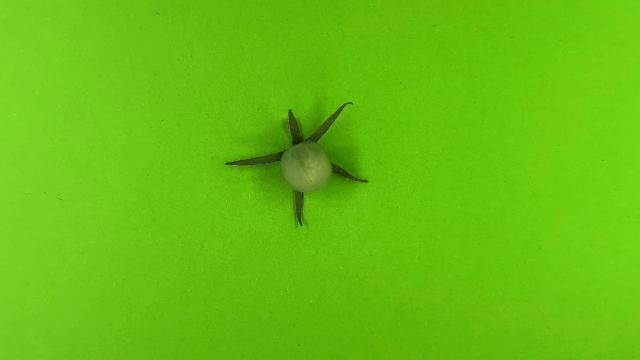Fruit Maturation: (279, 140, 333, 194)
